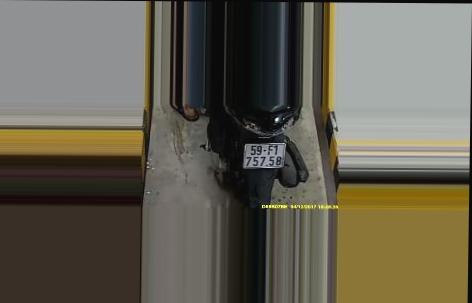License_Plate: (242, 140, 285, 171)
